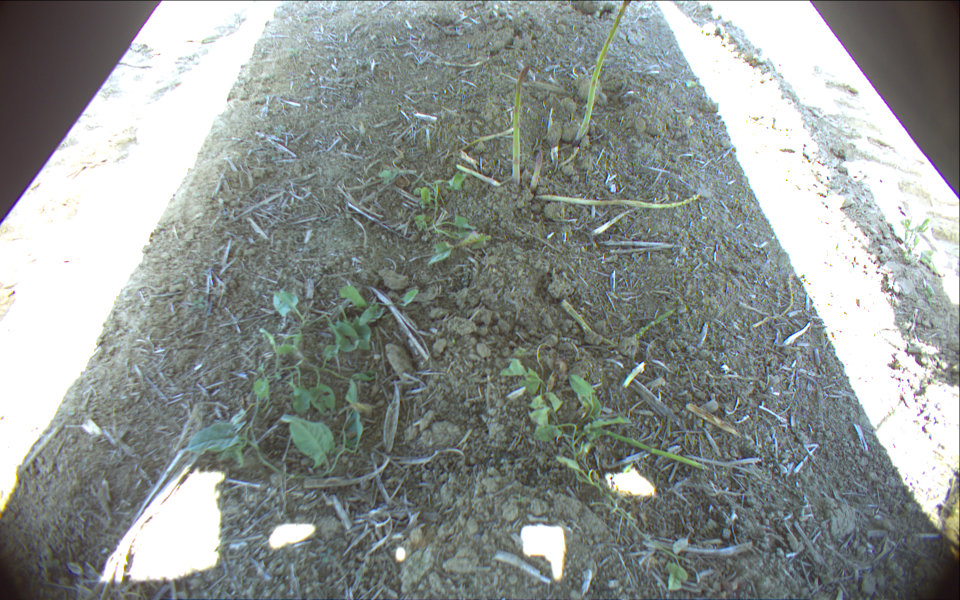aspa: (571, 1, 632, 142), (589, 424, 708, 472), (565, 302, 675, 344), (539, 195, 698, 211), (739, 274, 794, 316), (512, 64, 527, 183), (458, 164, 496, 186), (529, 154, 543, 192)
